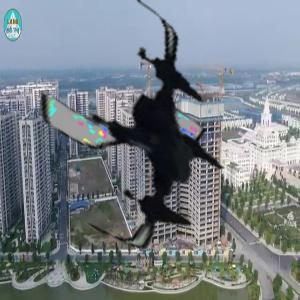drone: (12, 5, 251, 244)
